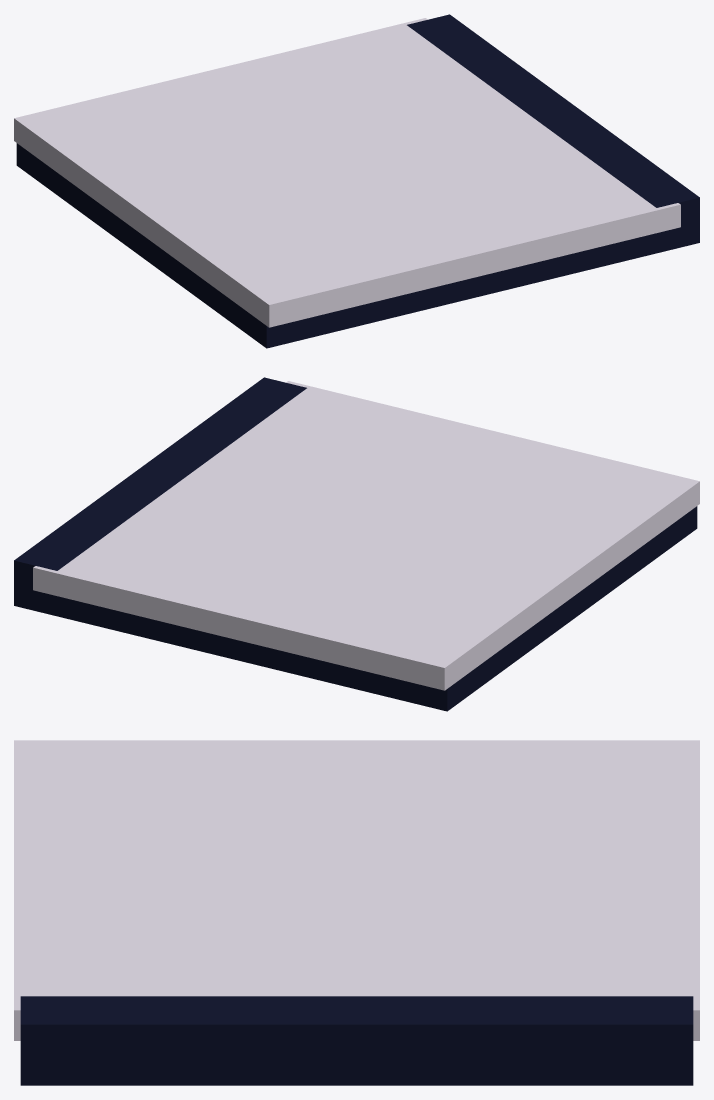
File: CDJewelCase.fbx
3 views of the same model, one above another, from view 1: azimuth 30°, elevation 25°; view 2: azimuth 150°, elevation 25°; view 3: azimuth 270°, elevation 25° (orthographic). The views are drawn at different scales.
Visible parts, largest first — view 1: CaseTop, CaseBottom; view 2: CaseTop, CaseBottom; view 3: CaseTop, CaseBottom.
Part boxes in pixels (x1,y1,x2,y2): CaseTop: [14, 18, 680, 327]; CaseBottom: [16, 14, 699, 348]; CaseTop: [33, 381, 699, 690]; CaseBottom: [14, 377, 697, 711]; CaseTop: [14, 740, 699, 1040]; CaseBottom: [20, 996, 693, 1085].
Size of the model in its own units: 200 by 20 by 204.
